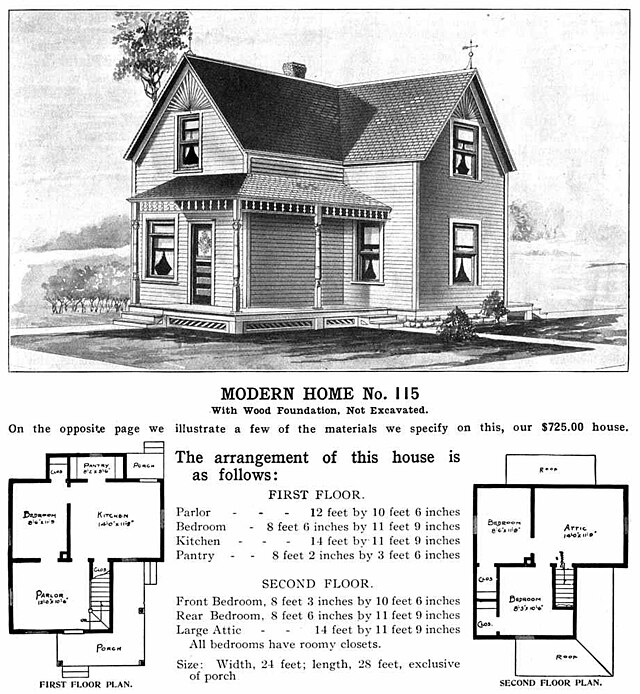Window: (144, 215, 180, 283), (191, 220, 213, 309), (353, 221, 382, 283), (178, 114, 205, 172), (453, 120, 479, 179), (453, 222, 476, 279)
